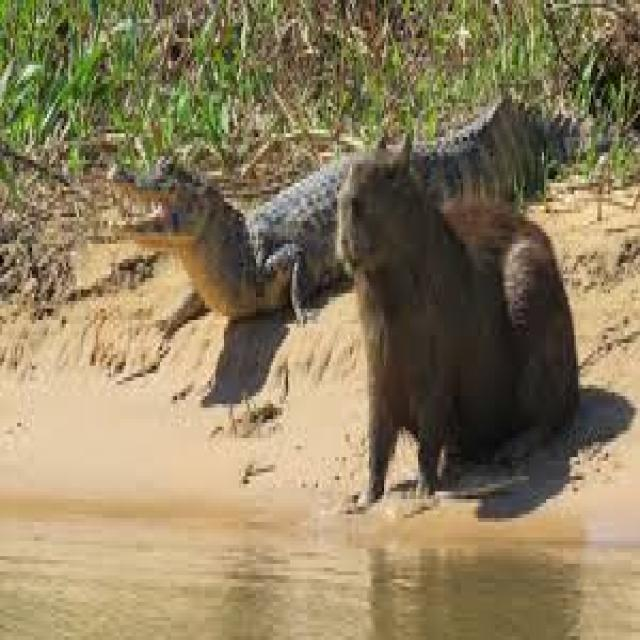capy: (334, 128, 584, 508)
